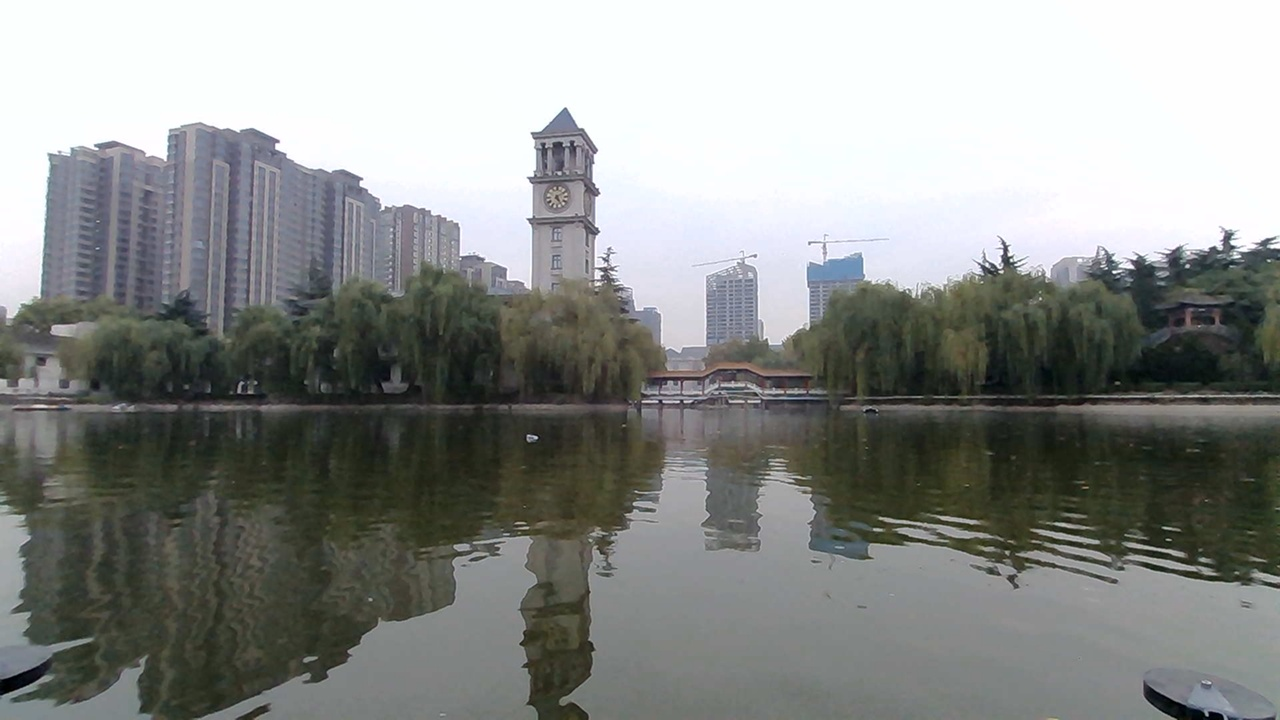bottle: (519, 426, 547, 448)
